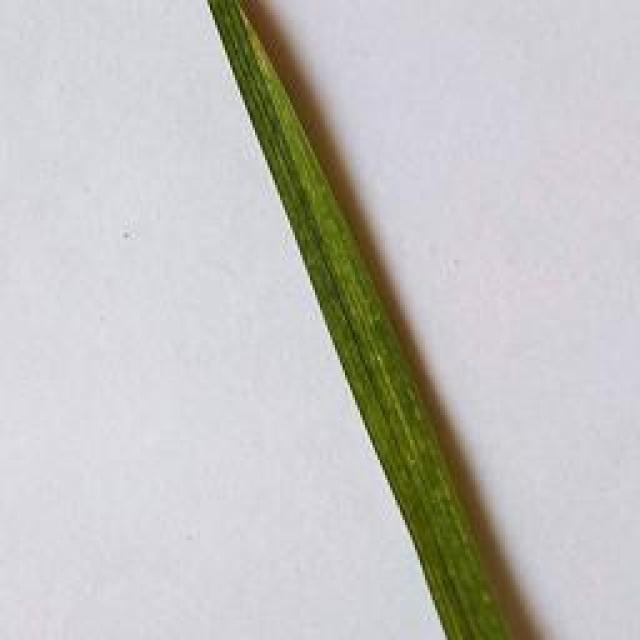Healthy-Plant: (204, 0, 500, 640)
